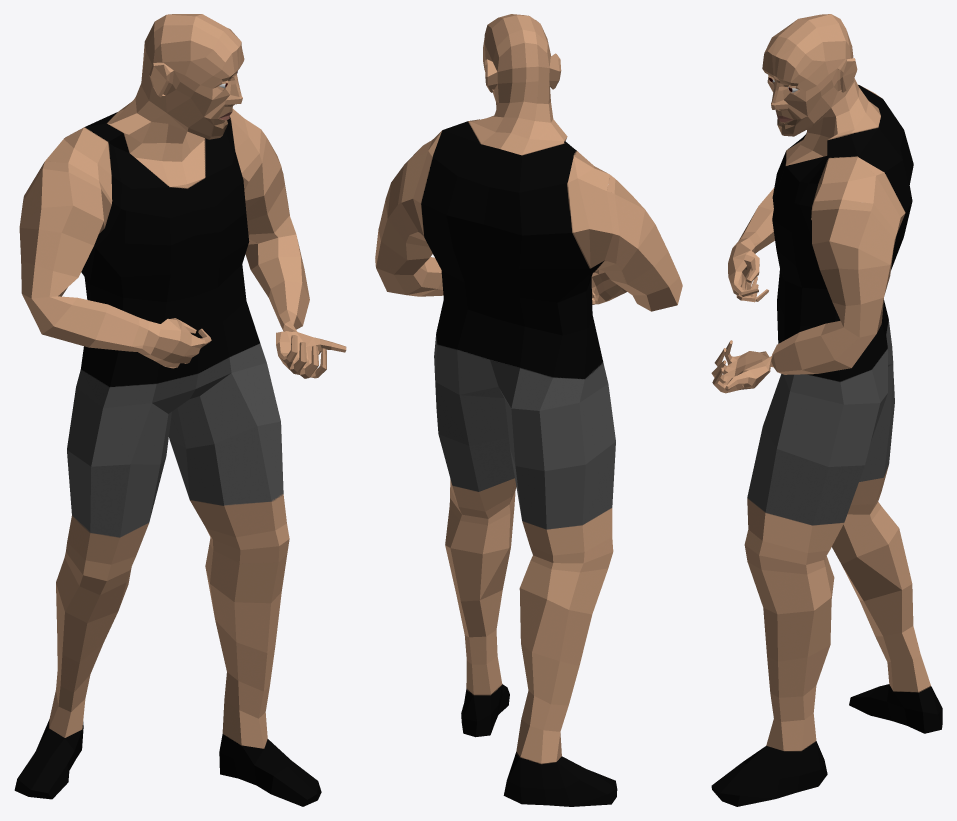
File: PlayerIdle(162).obj
3 views of the same model, side by side, from view 1: azimuth 30°, elevation 25°; view 2: azimuth 150°, elevation 25°; view 3: azimuth 270°, elevation 25° (orthographic). The views are drawn at different scales.
Parts seen in each view (by area): view 1: Plane002; view 2: Plane002; view 3: Plane002.
Part boxes in pixels (x1,y1,x2,y2): Plane002: (14, 14, 346, 806); Plane002: (375, 14, 682, 806); Plane002: (711, 14, 942, 806).
Size of the model in its own units: 711 by 1794 by 504.
